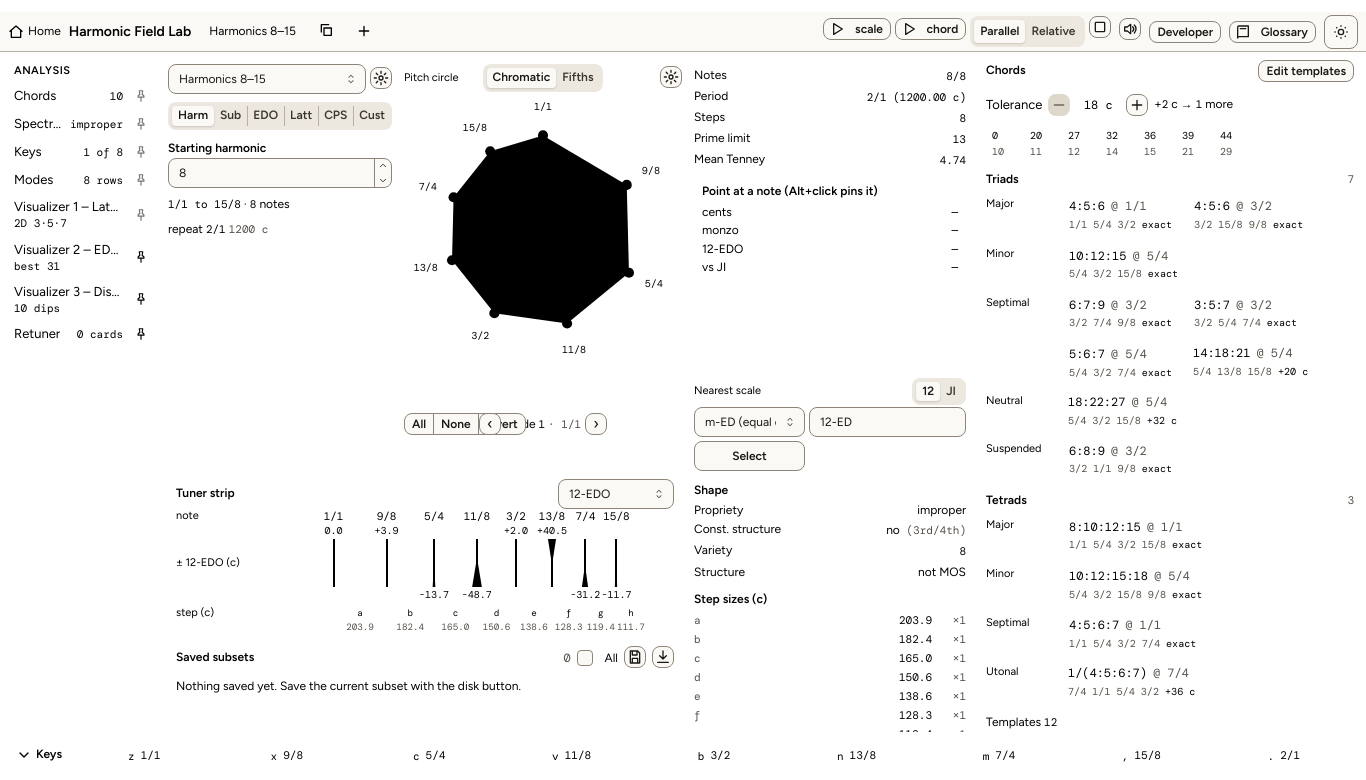
Test: lattice axes picker › starts on Auto, lists the choices with how many selected notes sit on the grid
What coordinates should you click on to do the following:
click the tab "Visualizer 1 – Lattice 2D 3·5·7"
I would click on:
 (68, 215)
Its box is [8,194,129,236].
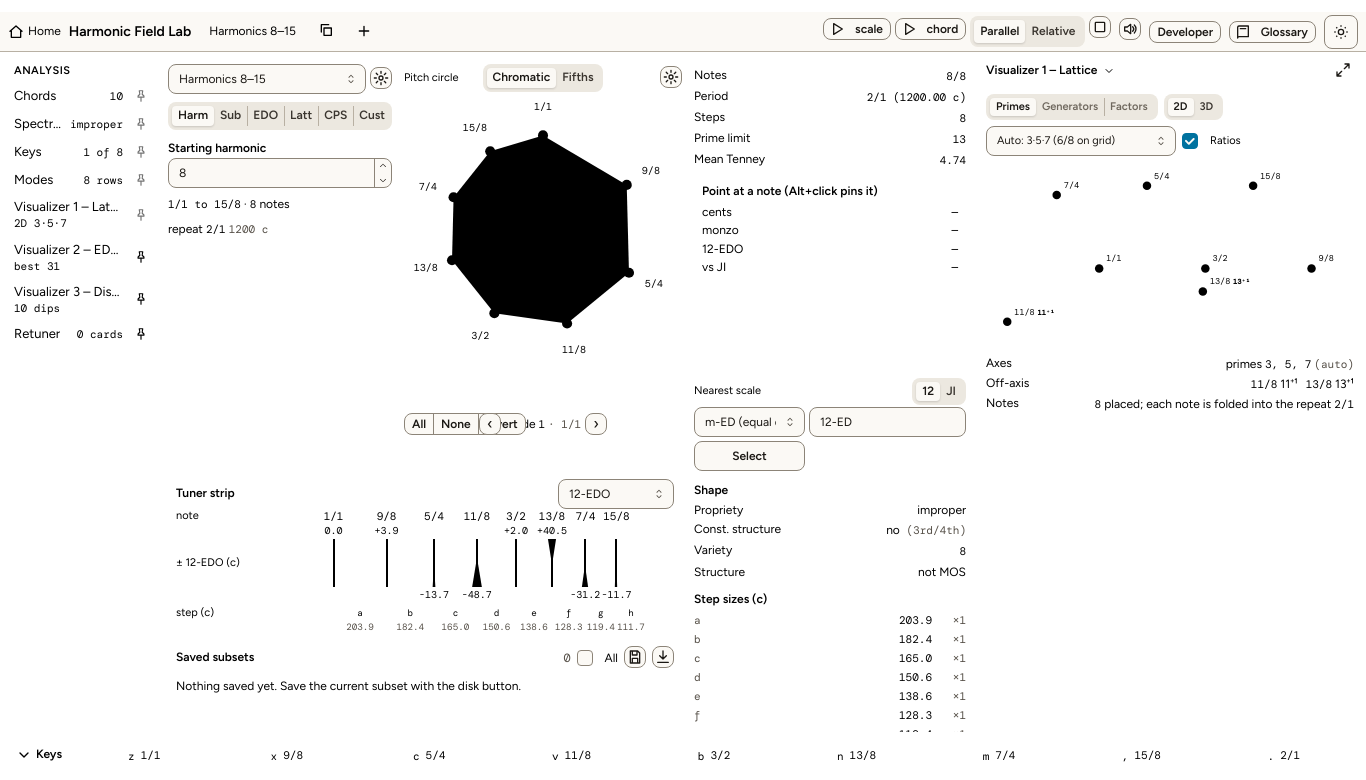
Check: the dropdown named "Lattice axes (primes)" shows "Auto: 3·5·7 (6/8 on grid)", box [986,126,1176,156]
